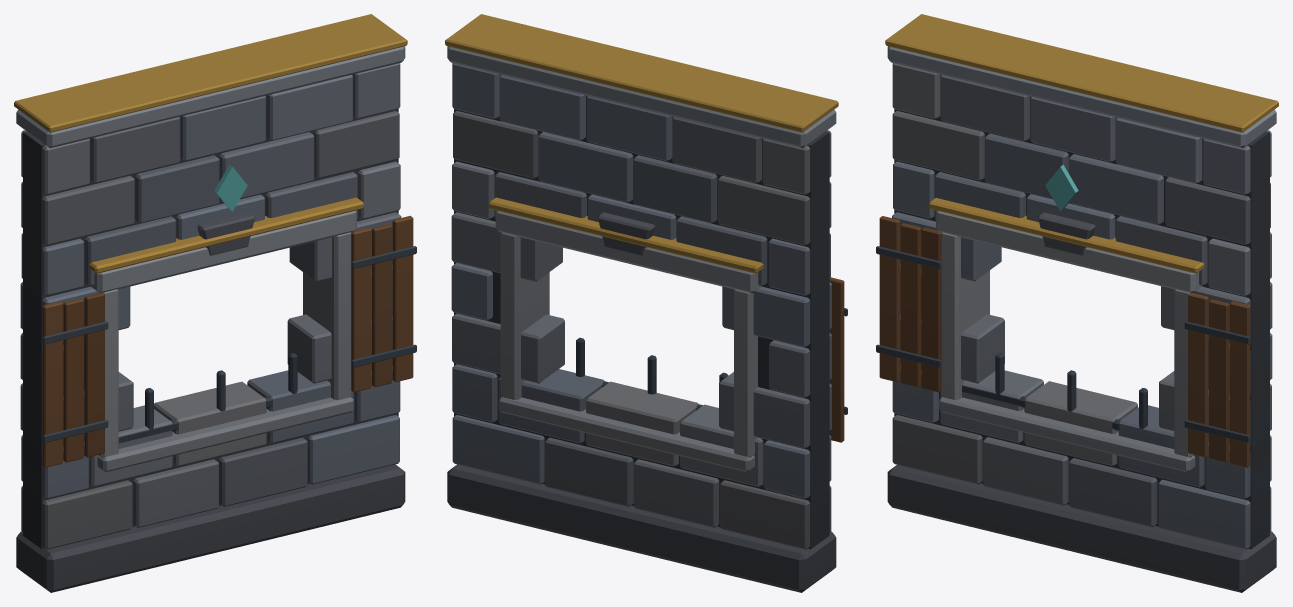
Rendered from def_castlewindow.glb.
3 renders of one model, left to right at view 1: azimuth 30°, elevation 25°; view 2: azimuth 150°, elevation 25°; view 3: azimuth 330°, elevation 25°, orthographic.
Visible parts, largest first — view 1: Base, Up3, Up2; view 2: Base, Up3, Up2; view 3: Base, Up3, Up2.
Boxes of the visible parts, bbox=[...] form: Base: bbox=[14, 14, 416, 592]; Up3: bbox=[89, 164, 363, 273]; Up2: bbox=[118, 352, 297, 443]; Base: bbox=[445, 14, 847, 592]; Up3: bbox=[488, 197, 763, 273]; Up2: bbox=[576, 337, 728, 410]; Base: bbox=[876, 14, 1278, 592]; Up3: bbox=[929, 164, 1204, 273]; Up2: bbox=[962, 352, 1147, 430].
Bounding box in the file's own units: 4.16 × 5 × 0.8.
